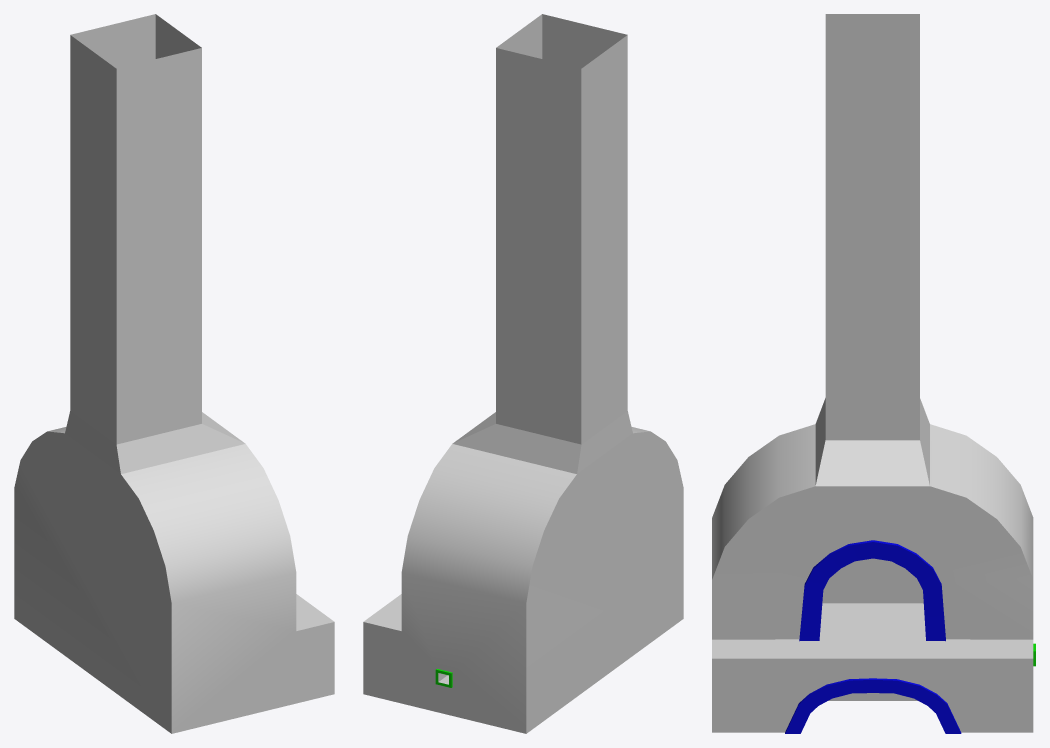
Rendered from Kemence.fbx.
3 renders of one model, left to right at view 1: azimuth 30°, elevation 25°; view 2: azimuth 150°, elevation 25°; view 3: azimuth 270°, elevation 25°, orthographic. The views are drawn at different scales.
Parts seen in each view (by area): view 1: Furnace_low; view 2: Furnace_low; view 3: Furnace_low.
Boxes of the visible parts, <box> form: Furnace_low: <box>14,14,334,733</box>; Furnace_low: <box>363,14,683,733</box>; Furnace_low: <box>712,14,1035,733</box>.
Size of the model in its own units: 362 by 1302 by 599.
